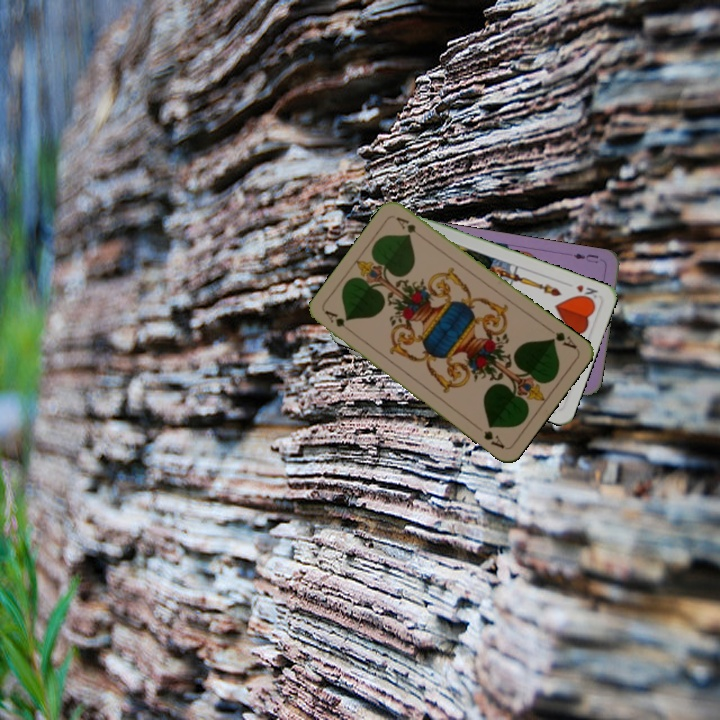EU: (569, 249, 601, 266)
GA: (321, 306, 356, 336), (544, 324, 580, 352)
HK: (572, 281, 600, 304)
